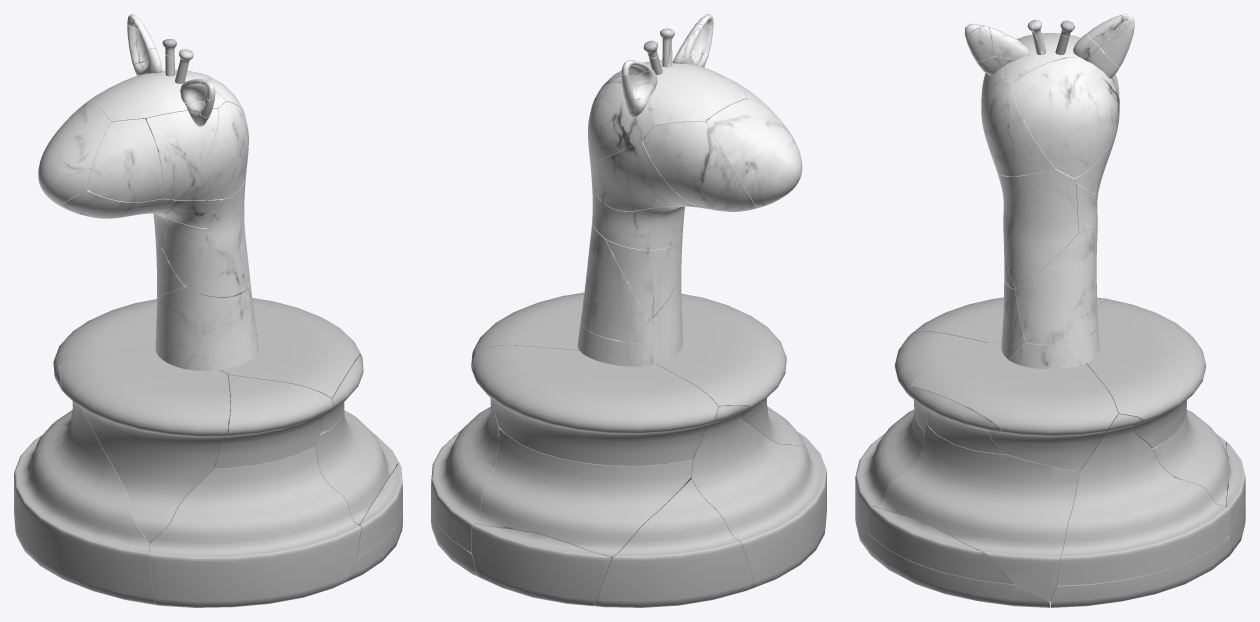
Rendered from broken-bust.fbx.
3 views of the same model, side by side, from view 1: azimuth 30°, elevation 25°; view 2: azimuth 150°, elevation 25°; view 3: azimuth 270°, elevation 25° (orthographic).
Parts seen in each view (by area): view 1: Bust_cell.005, Bust_cell.007, Bust_cell.006, Bust_cell.008, Bust_cell.014, Body_cell.020, Bust_cell.009, Body_cell.2978, Body_cell.008, Bust_cell.002, Body_cell.1257, Body_cell.1503 (+11 smaller); view 2: Bust_cell.002, Bust_cell.006, Bust_cell.010, Bust_cell.004, Bust_cell.007, Bust_cell, Body_cell.008, Body_cell.017, Bust_cell.015, Body_cell.002, Body_cell.018, Bust_cell.014 (+10 smaller); view 3: Bust_cell.009, Bust_cell.015, Bust_cell.014, Bust_cell.002, Body_cell.014, Body_cell.1749, Body_cell.002, Bust_cell.001, Bust_cell.005, Bust_cell.010, Body_cell.1503, Bust_cell.011 (+15 smaller).
Boxes of the visible parts, x1,y1,x2,y2 form: Bust_cell.005: [149, 446, 360, 607]; Bust_cell.007: [59, 349, 230, 542]; Bust_cell.006: [15, 365, 155, 604]; Bust_cell.008: [214, 375, 333, 468]; Bust_cell.014: [220, 304, 360, 420]; Body_cell.020: [156, 287, 256, 370]; Bust_cell.009: [316, 408, 398, 524]; Body_cell.2978: [87, 119, 162, 202]; Body_cell.008: [38, 99, 111, 203]; Bust_cell.002: [53, 298, 284, 406]; Body_cell.1257: [163, 218, 248, 296]; Body_cell.1503: [174, 101, 248, 200]; Bust_cell.002: [472, 345, 717, 465]; Bust_cell.006: [690, 405, 826, 587]; Bust_cell.010: [476, 428, 692, 575]; Bust_cell.004: [594, 479, 755, 607]; Bust_cell.007: [647, 311, 806, 448]; Bust_cell: [472, 523, 611, 606]; Body_cell.008: [706, 99, 802, 206]; Body_cell.017: [643, 121, 755, 210]; Bust_cell.015: [431, 351, 499, 553]; Body_cell.002: [580, 222, 648, 343]; Body_cell.018: [647, 60, 747, 125]; Bust_cell.014: [472, 292, 647, 352]; Bust_cell.009: [875, 426, 1080, 601]; Bust_cell.015: [1057, 414, 1230, 585]; Bust_cell.014: [911, 341, 1118, 471]; Bust_cell.002: [1069, 299, 1206, 447]; Body_cell.014: [1012, 57, 1119, 178]; Body_cell.1749: [998, 168, 1078, 288]; Body_cell.002: [1015, 228, 1097, 344]; Bust_cell.001: [867, 506, 1011, 584]; Bust_cell.005: [855, 409, 924, 545]; Bust_cell.010: [1152, 410, 1229, 506]; Body_cell.1503: [981, 79, 1054, 176]; Bust_cell.011: [1050, 536, 1232, 607].
Bounding box in the file's own units: 180 × 255 × 180.
